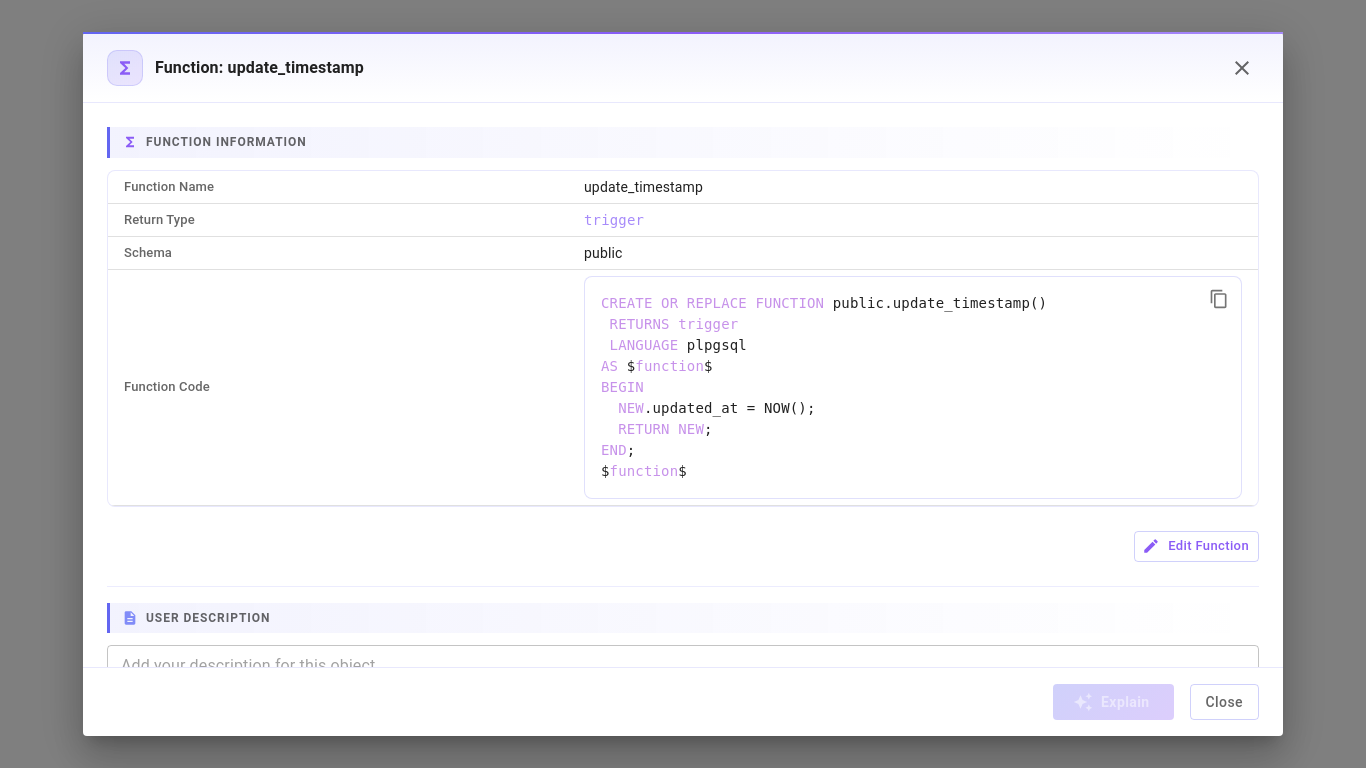
Scenario: ElementDetailsModal – function inline editing › Cancel button › shows "Edit Function" button again after cancelling
Click the button "Edit Function".
click(1197, 546)  # box [1134,531,1259,562]
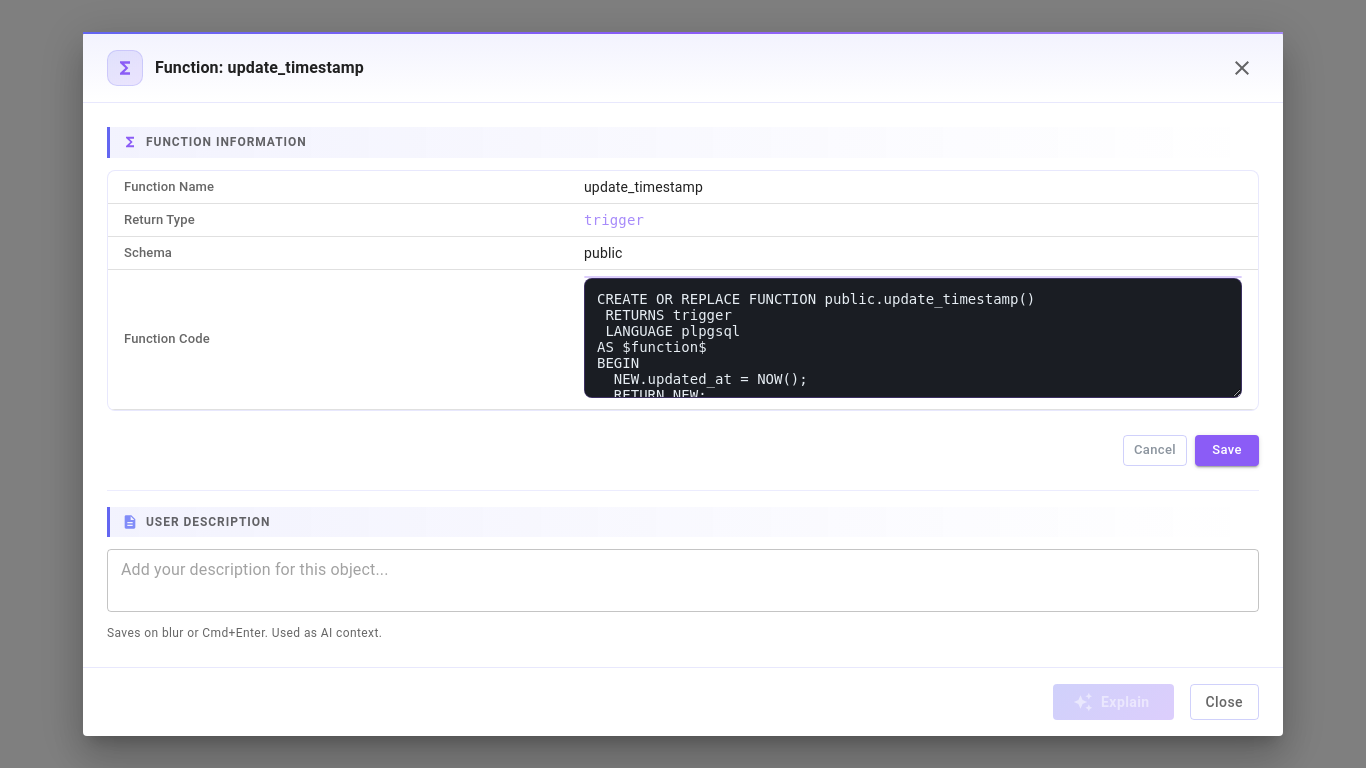
Click the button "Cancel".
click(1155, 450)  # box [1123,435,1187,466]
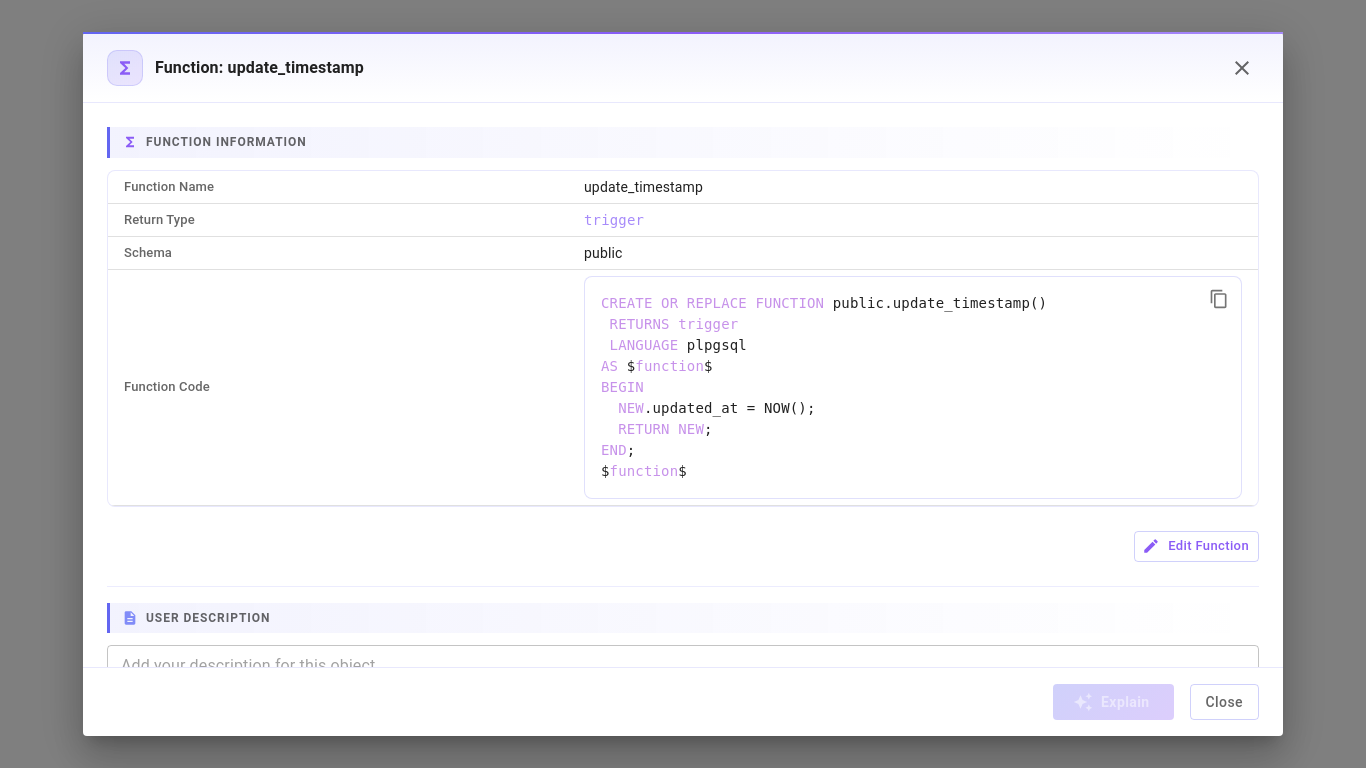
Check: the button "Edit Function" is shown, box [1134,531,1259,562]
